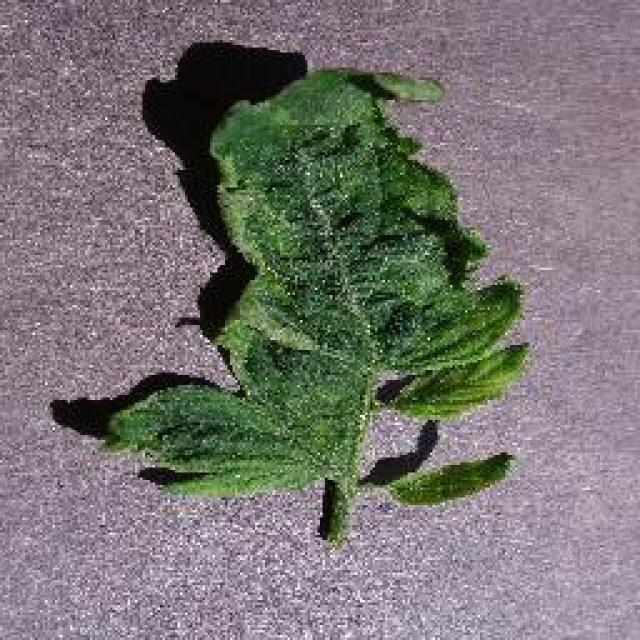Tomato spider mites leaf: (99, 56, 531, 504)
